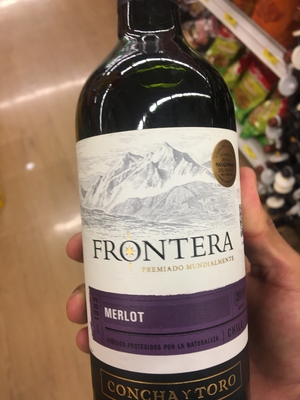frontera merlot: (65, 36, 280, 393)
